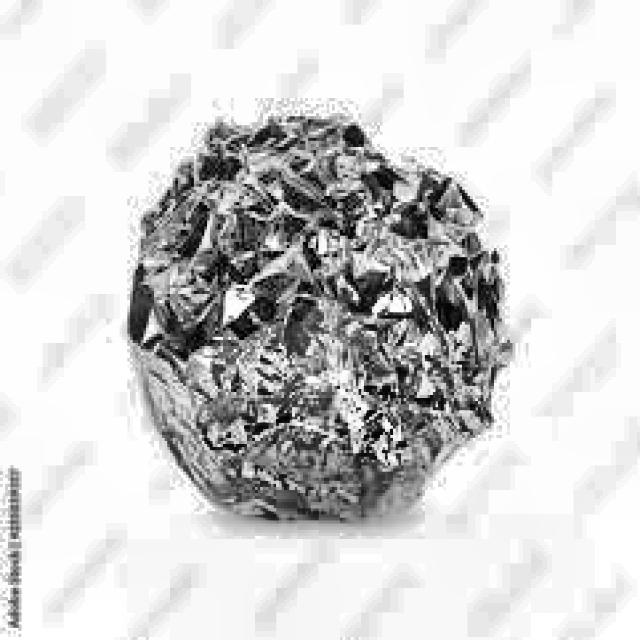Foil: (115, 97, 527, 550)
